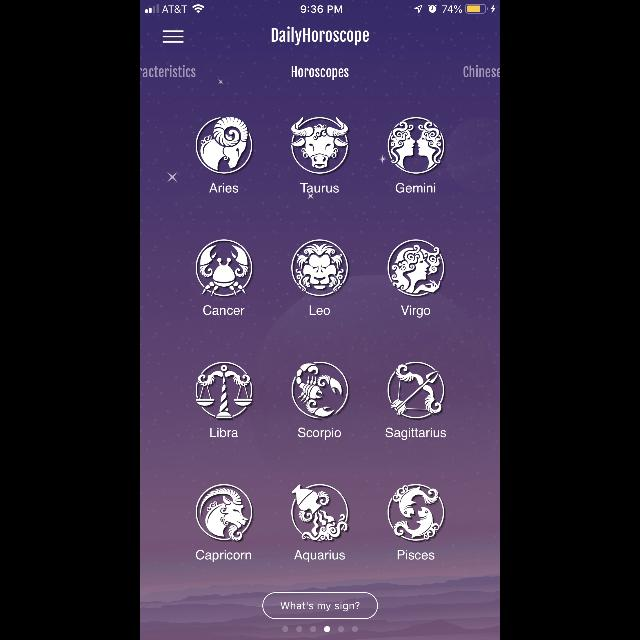backgroundimage: (140, 1, 500, 640)
icon: (162, 31, 184, 44)
image: (195, 484, 252, 542), (292, 484, 348, 542), (388, 484, 444, 542), (196, 240, 254, 296), (292, 238, 348, 296), (388, 116, 444, 174), (196, 118, 254, 174), (195, 362, 252, 418), (388, 362, 444, 418), (292, 362, 348, 418), (388, 240, 444, 296), (292, 118, 348, 174)
pageindicator: (282, 626, 358, 632)
text: (272, 27, 368, 45), (292, 66, 348, 80), (386, 428, 446, 440), (140, 65, 196, 77), (196, 550, 252, 562), (294, 550, 346, 562), (299, 428, 341, 440), (464, 66, 500, 78), (203, 305, 244, 315), (396, 183, 436, 193), (300, 183, 338, 193), (398, 550, 434, 560), (402, 306, 431, 318), (210, 428, 238, 438), (210, 183, 238, 193), (310, 305, 330, 315)
textbutton: (262, 592, 378, 620)
uppertaskbar: (140, 0, 500, 14)
